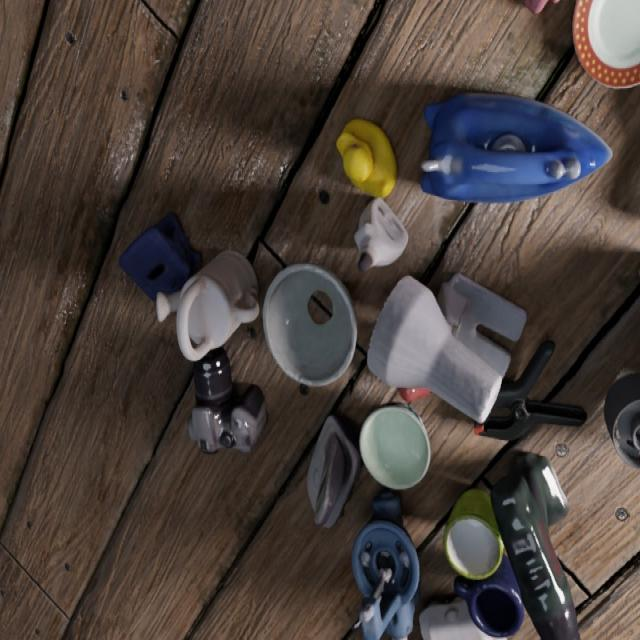Other Objects: (368, 276, 526, 424), (422, 95, 612, 203), (492, 455, 580, 640), (263, 264, 357, 387), (158, 251, 259, 361), (476, 343, 587, 441), (353, 492, 420, 640), (189, 348, 267, 453), (120, 215, 202, 301), (308, 416, 362, 528), (360, 405, 431, 489), (573, 1, 640, 88), (456, 555, 524, 639), (443, 488, 505, 580), (337, 120, 397, 197), (355, 199, 408, 271), (420, 599, 508, 640), (604, 373, 640, 468)
